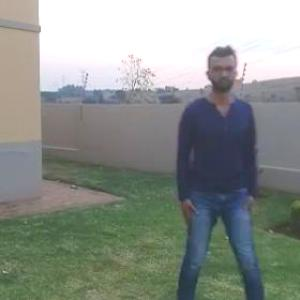follow: (170, 41, 252, 299)
